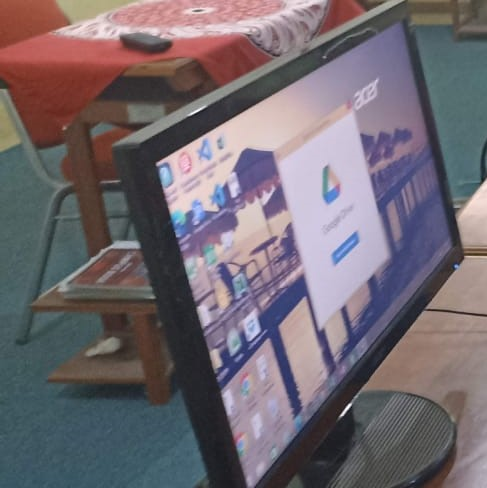monitor: (112, 0, 466, 481)
